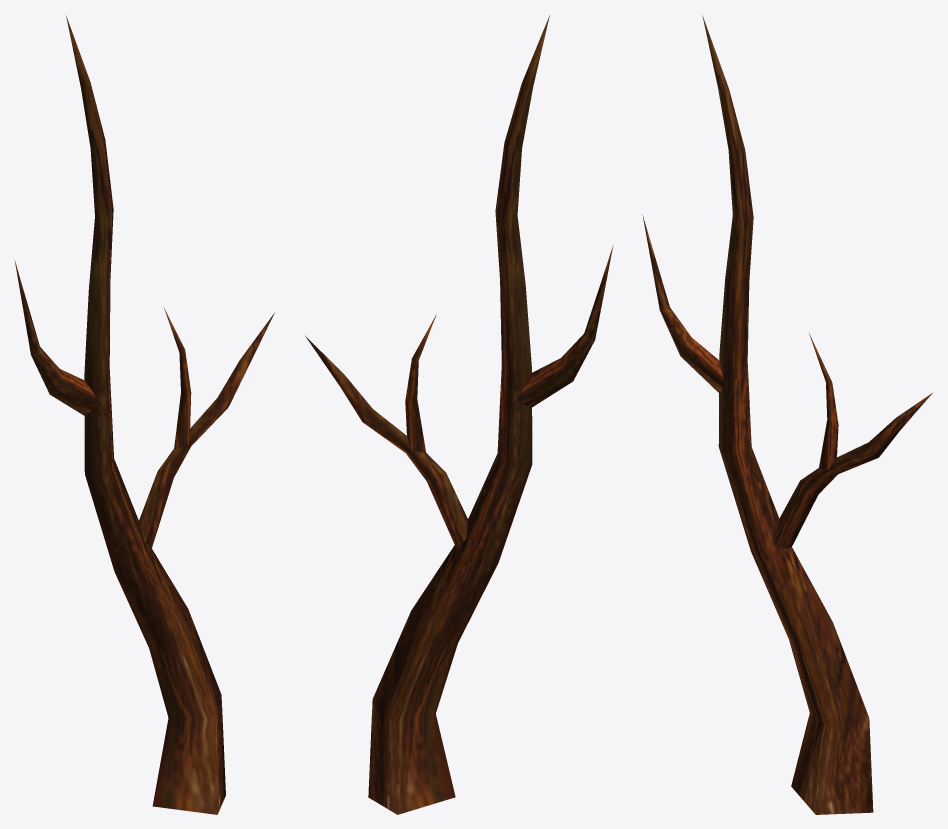
The model's file is deserttrunkz_root.glb.
3 views of the same model, side by side, from view 1: azimuth 30°, elevation 25°; view 2: azimuth 150°, elevation 25°; view 3: azimuth 330°, elevation 25° (orthographic). The views are drawn at different scales.
Visible parts, largest first — view 1: deserttrunkz_root; view 2: deserttrunkz_root; view 3: deserttrunkz_root.
Boxes of the visible parts, <box> form: deserttrunkz_root: <box>14,15,274,814</box>; deserttrunkz_root: <box>305,15,613,814</box>; deserttrunkz_root: <box>642,15,932,814</box>.
Bounding box in the file's own units: 10.84 × 29.91 × 2.98.
Materials: 1 (1 with a texture image).
